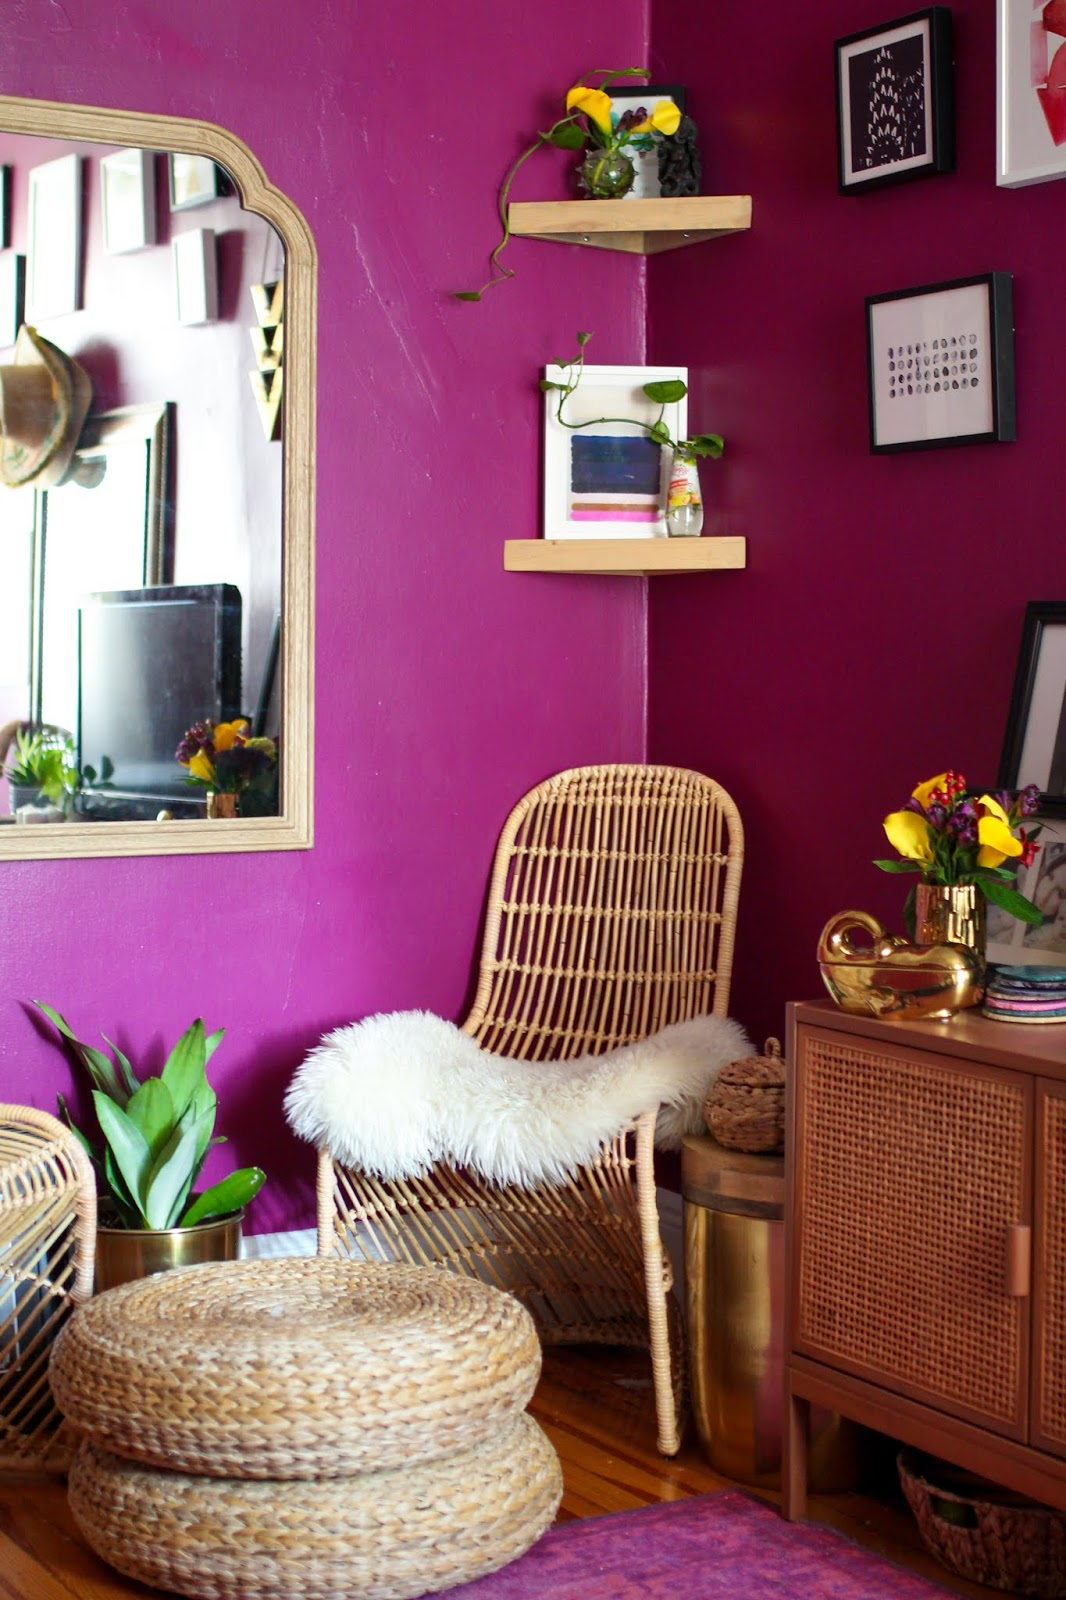coklat: (784, 1003, 1066, 1477)
putih: (301, 1011, 723, 1147)
